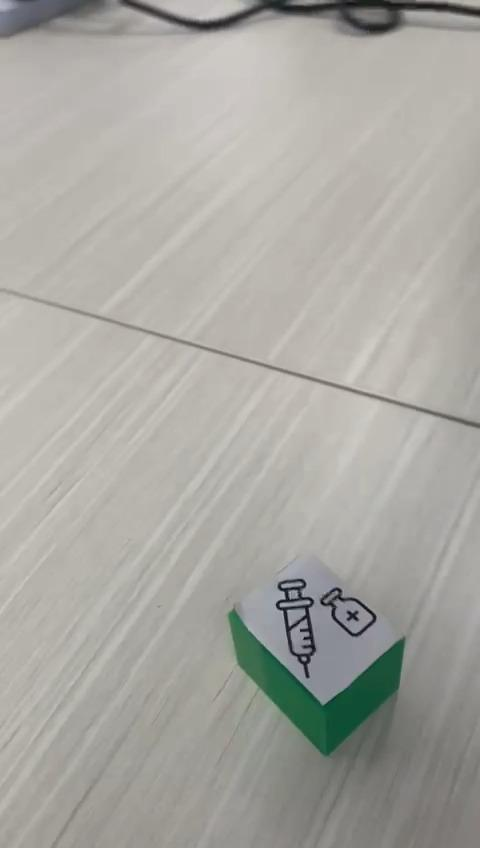antiseptic cream: (227, 550, 406, 756)
